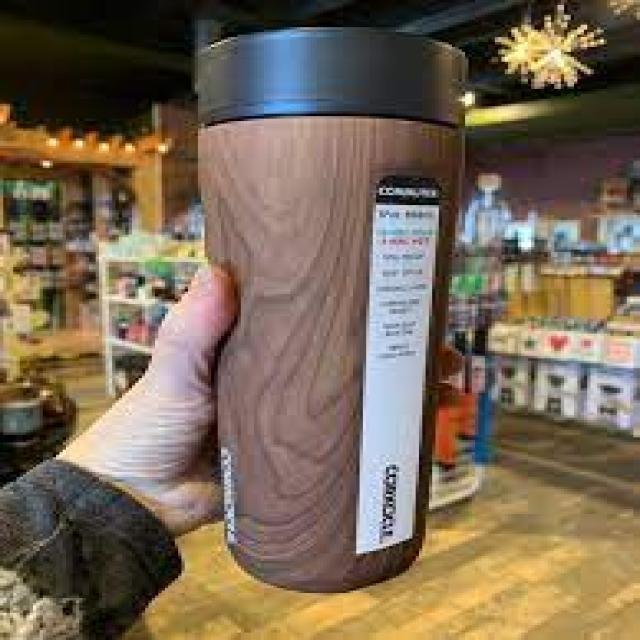bottle: (124, 23, 493, 628)
